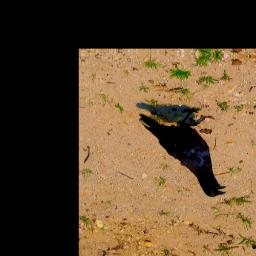Crow: (138, 105, 228, 198)
